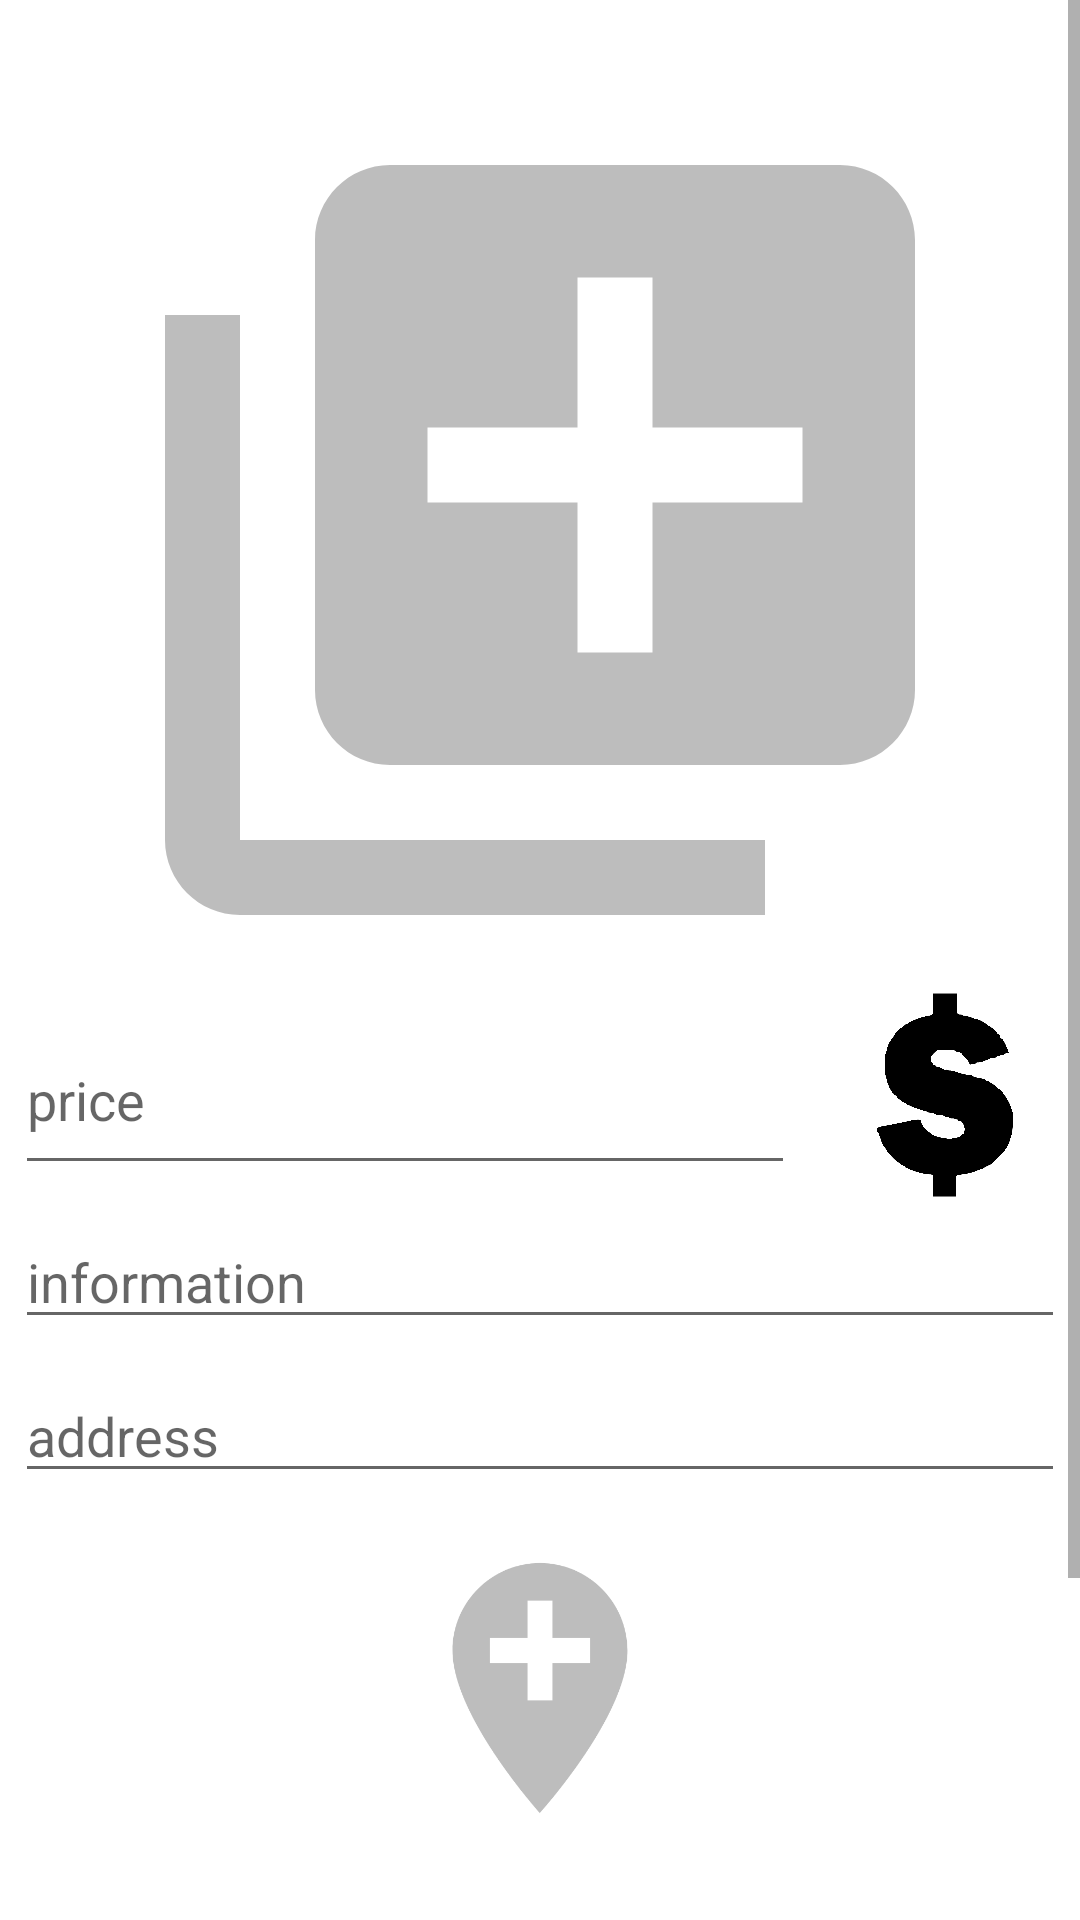

Named icons in this screenshot (1080x1920) and their centers, [x,y]:
add location: [540,1688]
money: [945,1095]
